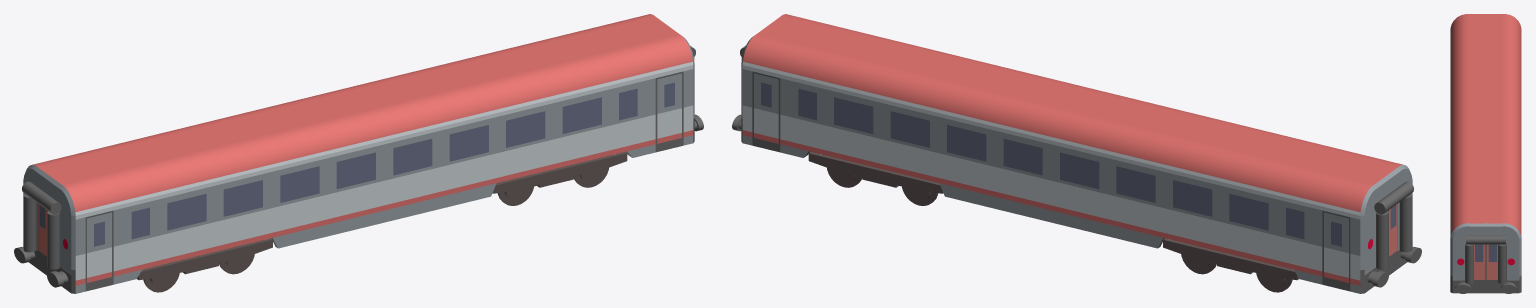
File: scene_1moRusVr3u.glb
3 views of the same model, side by side, from view 1: azimuth 30°, elevation 25°; view 2: azimuth 150°, elevation 25°; view 3: azimuth 270°, elevation 25° (orthographic). The views are drawn at different scales.
Visible parts, largest first — view 1: Component_2_ID402_1, Component_2_ID602, Component_2_ID328_1, Component_2_ID530, Component_2_ID584, Component_2_ID384_1, Component_2_ID402, Component_2_ID602_1, Component_2_ID608, Component_2_ID408_1, Component_2_ID590, Component_2_ID560 (+28 smaller); view 2: Component_2_ID602_1, Component_2_ID402, Component_2_ID530_1, Component_2_ID328, Component_2_ID384, Component_2_ID584_1, Component_2_ID602, Component_2_ID402_1, Component_2_ID408, Component_2_ID608_1, Component_2_ID390, Component_2_ID360 (+28 smaller); view 3: Component_2_ID402_1, Component_2_ID602_1, Component_2_ID402, Component_2_ID602, Component_2_ID390_1, Component_2_ID590_1, Component_5_ID452_1, Component_2_ID290_1, Component_2_ID500_1, Component_5_ID458_1, Component_5_ID464_1, Component_2_ID274_1 (+9 smaller).
Part boxes in pixels (bbox=[...]): Component_2_ID402_1: bbox=[359, 25, 692, 136]; Component_2_ID602: bbox=[50, 101, 383, 212]; Component_2_ID328_1: bbox=[384, 114, 655, 204]; Component_2_ID530: bbox=[113, 180, 384, 271]; Component_2_ID584: bbox=[113, 144, 384, 246]; Component_2_ID384_1: bbox=[384, 78, 655, 180]; Component_2_ID402: bbox=[33, 89, 358, 176]; Component_2_ID602_1: bbox=[342, 14, 667, 100]; Component_2_ID608: bbox=[75, 137, 384, 219]; Component_2_ID408_1: bbox=[384, 61, 693, 143]; Component_2_ID590: bbox=[47, 176, 85, 274]; Component_2_ID560: bbox=[113, 205, 384, 276]; Component_2_ID602_1: bbox=[743, 25, 1076, 136]; Component_2_ID402: bbox=[1052, 101, 1385, 212]; Component_2_ID530_1: bbox=[780, 114, 1051, 204]; Component_2_ID328: bbox=[1051, 180, 1322, 271]; Component_2_ID384: bbox=[1051, 144, 1322, 246]; Component_2_ID584_1: bbox=[780, 78, 1051, 180]; Component_2_ID602: bbox=[1077, 89, 1402, 176]; Component_2_ID402_1: bbox=[768, 14, 1093, 100]; Component_2_ID408: bbox=[1051, 137, 1360, 219]; Component_2_ID608_1: bbox=[742, 61, 1051, 143]; Component_2_ID390: bbox=[1350, 176, 1388, 274]; Component_2_ID360: bbox=[1051, 205, 1322, 276]; Component_2_ID402_1: bbox=[1451, 118, 1485, 234]; Component_2_ID602_1: bbox=[1486, 118, 1520, 234]; Component_2_ID402: bbox=[1486, 14, 1520, 130]; Component_2_ID602: bbox=[1451, 14, 1485, 130]; Component_2_ID390_1: bbox=[1450, 223, 1485, 280]; Component_2_ID590_1: bbox=[1486, 223, 1521, 280]; Component_5_ID452_1: bbox=[1466, 235, 1505, 244]; Component_2_ID290_1: bbox=[1450, 244, 1485, 293]; Component_2_ID500_1: bbox=[1486, 244, 1521, 293]; Component_5_ID458_1: bbox=[1498, 243, 1506, 283]; Component_5_ID464_1: bbox=[1465, 243, 1473, 283]; Component_2_ID274_1: bbox=[1474, 244, 1485, 279].
Size of the model in its own units: 12.45 by 2.32 by 1.71.
